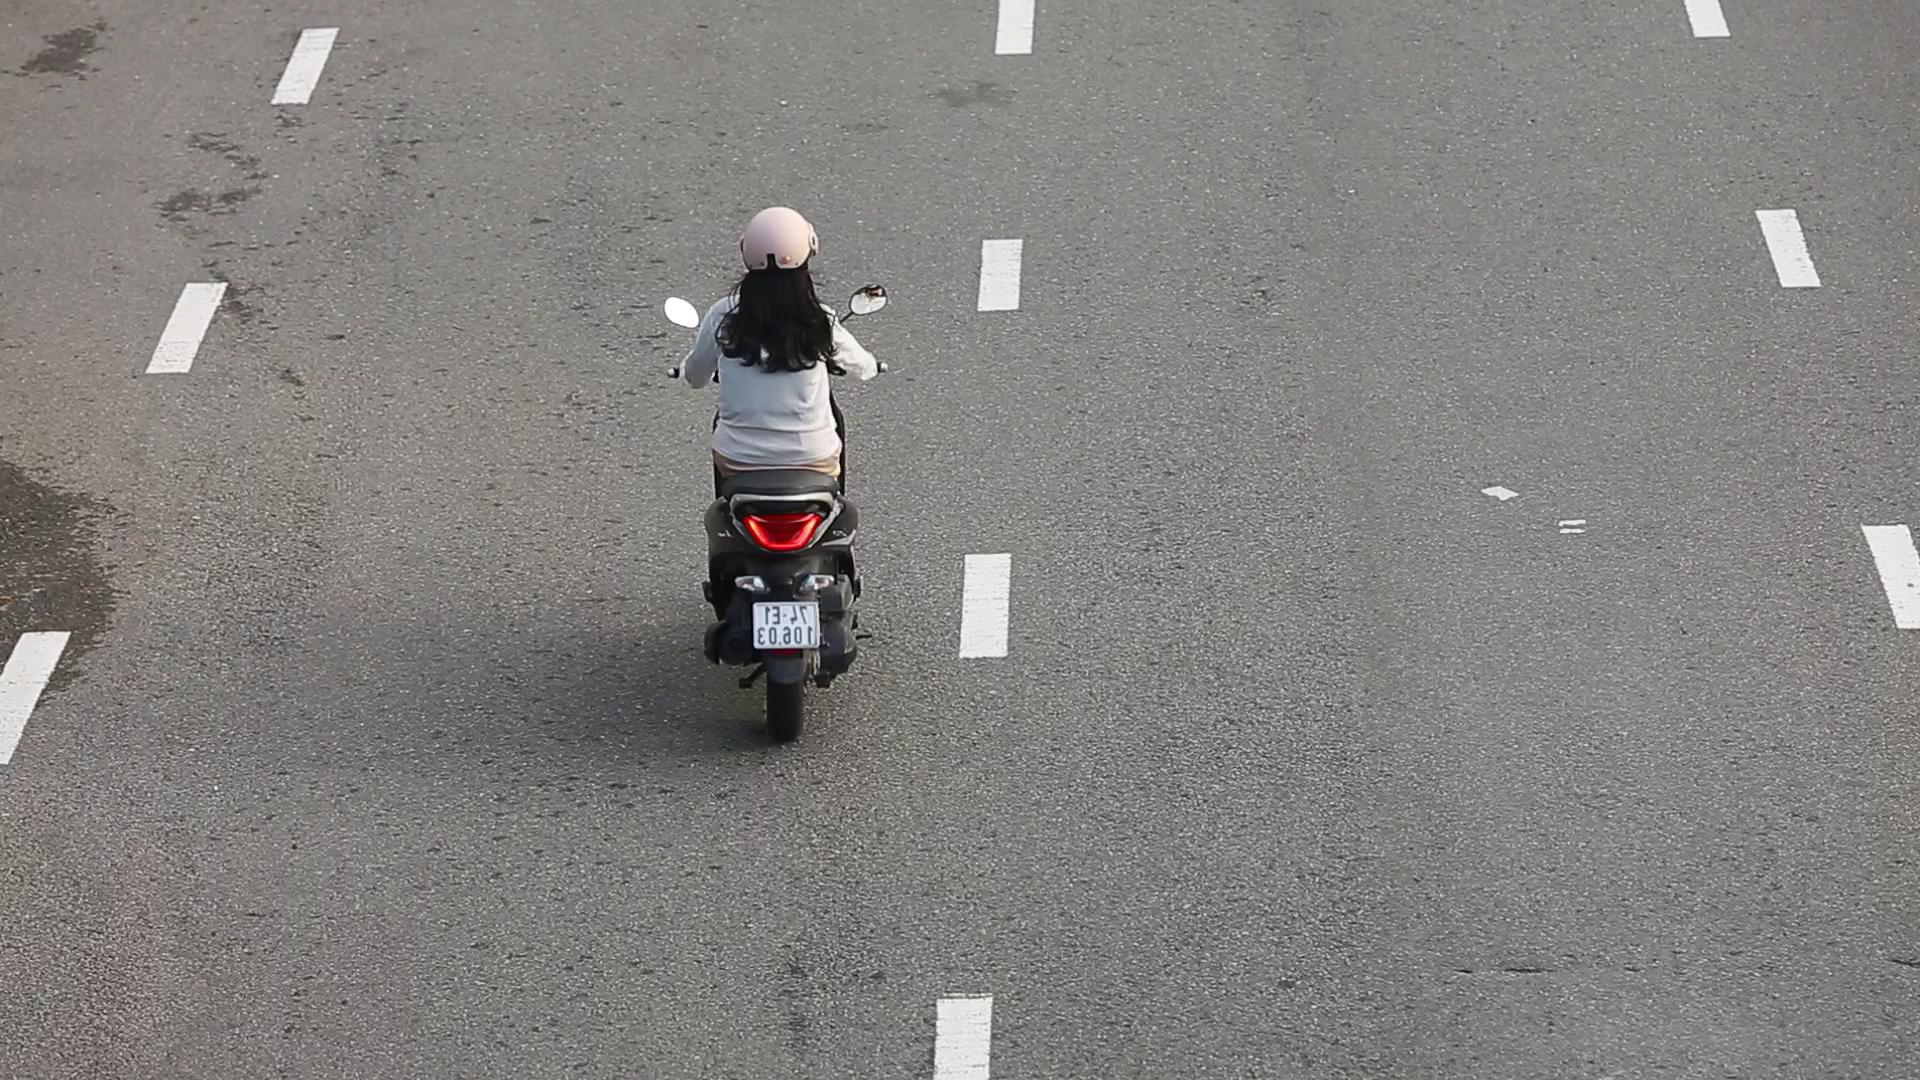motobike: (654, 202, 898, 754)
